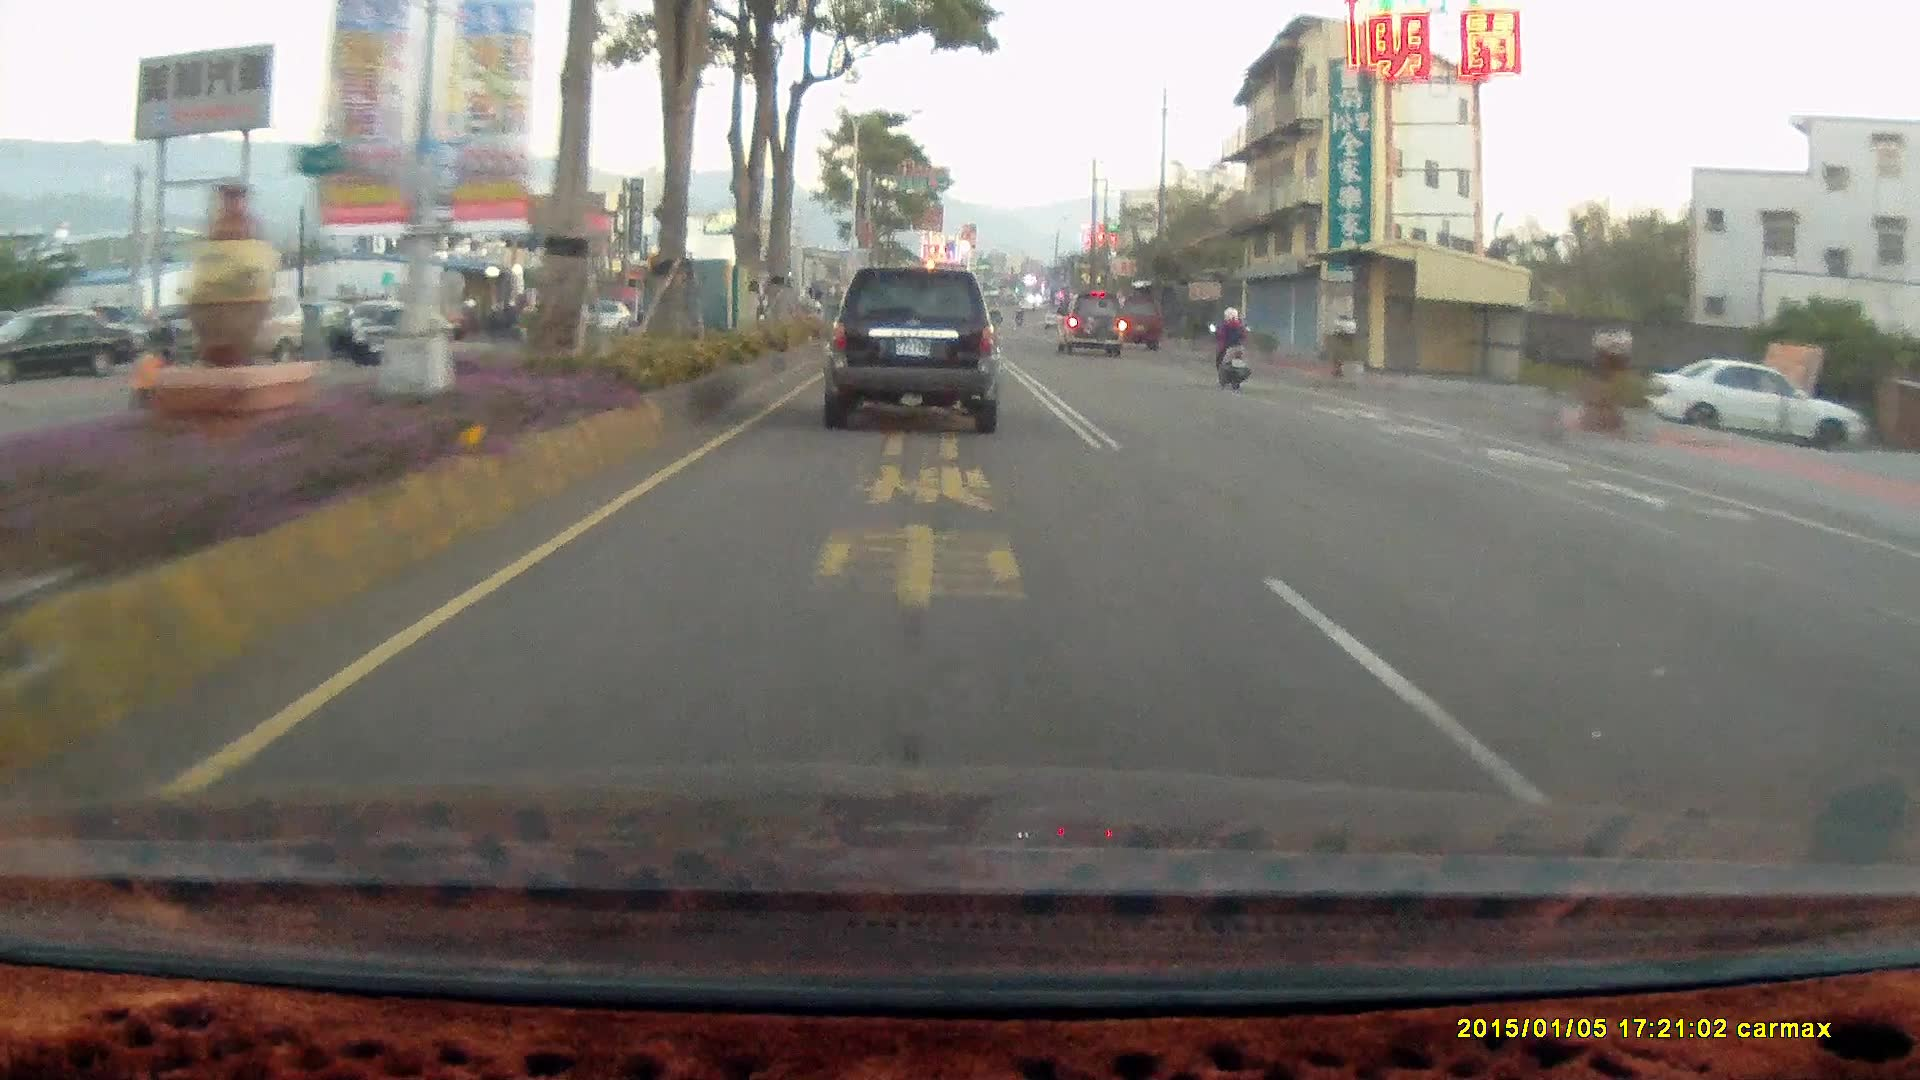rider: (1202, 299, 1260, 398), (117, 318, 179, 410), (1207, 301, 1250, 384)
vehicle: (819, 262, 1007, 433), (821, 266, 1002, 432), (1644, 353, 1866, 451), (1653, 356, 1864, 450), (154, 288, 310, 369), (149, 286, 305, 363), (1, 306, 143, 388), (344, 306, 459, 367), (1059, 294, 1129, 360), (1054, 290, 1124, 356), (1111, 293, 1161, 348)
